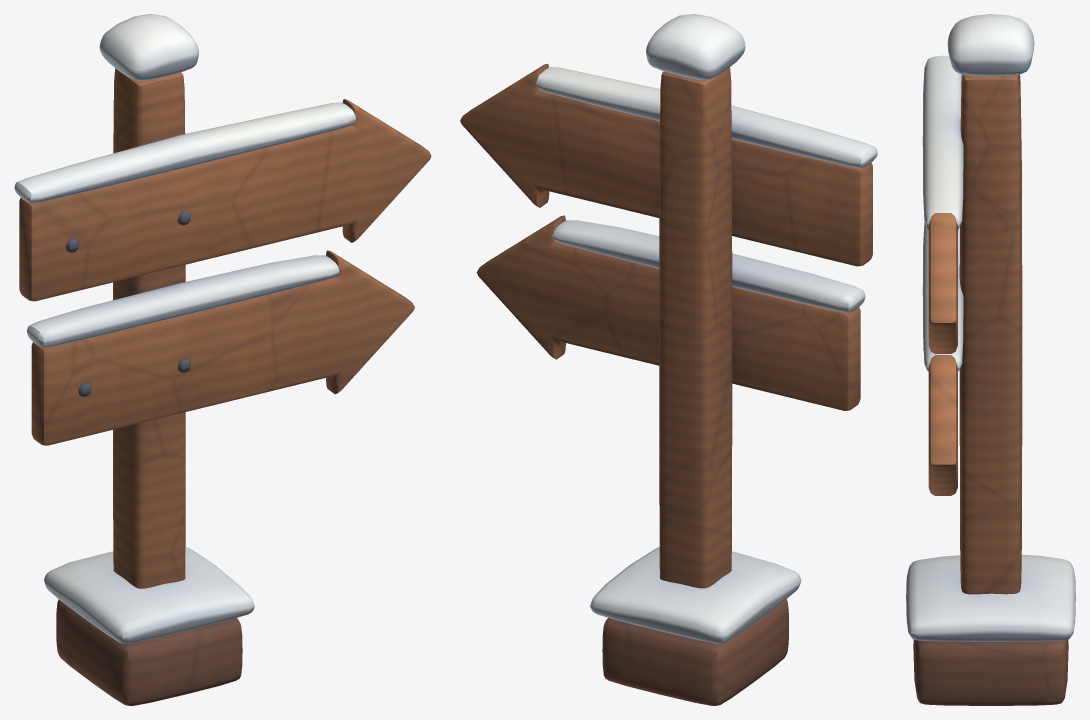
Rendered from FP_P07_Signpost.fbx.
3 views of the same model, side by side, from view 1: azimuth 30°, elevation 25°; view 2: azimuth 150°, elevation 25°; view 3: azimuth 270°, elevation 25° (orthographic).
Parts seen in each view (by area): view 1: Board_Upper, Post, Board_Lower; view 2: Post, Board_Upper, Board_Lower; view 3: Post, Board_Upper, Board_Lower.
Part boxes in pixels (left/top/right/bottom): Board_Upper: left=14, top=99, right=431, bottom=301; Post: left=44, top=14, right=254, bottom=705; Board_Lower: left=27, top=250, right=414, bottom=445; Post: left=590, top=14, right=801, bottom=705; Board_Upper: left=460, top=63, right=877, bottom=266; Board_Lower: left=476, top=215, right=865, bottom=410; Post: left=906, top=14, right=1075, bottom=705; Board_Upper: left=922, top=55, right=963, bottom=353; Board_Lower: left=922, top=222, right=963, bottom=495.
Size of the model in its own units: 0.9832 by 1.5 by 0.3486.
